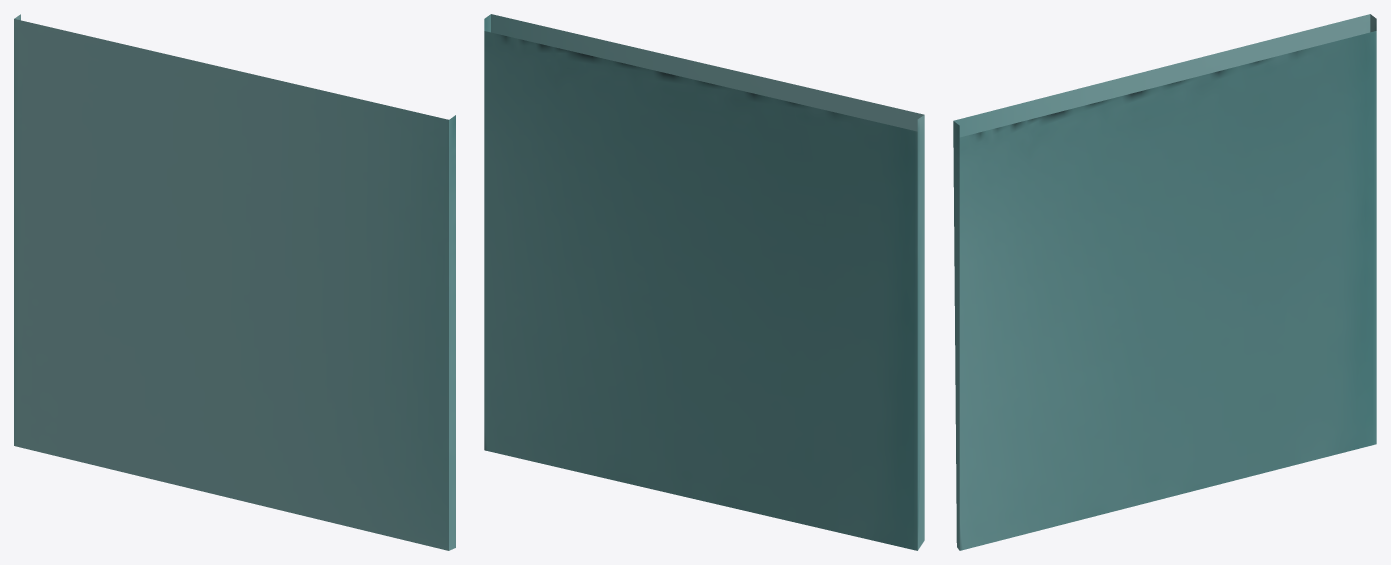
Rendered from structure_03.glb.
3 renders of one model, left to right at view 1: azimuth 30°, elevation 25°; view 2: azimuth 210°, elevation 25°; view 3: azimuth 270°, elevation 25°, orthographic.
Parts seen in each view (by area): view 1: Structure.002; view 2: Structure.002; view 3: Structure.002.
Boxes of the visible parts, x1=… form: Structure.002: x1=14, y1=14, x2=455, y2=550; Structure.002: x1=484, y1=14, x2=924, y2=550; Structure.002: x1=953, y1=14, x2=1376, y2=550.
Bounding box in the file's own units: 2.01 × 3.57 × 3.22.
Materials: 1 (1 with a texture image).
